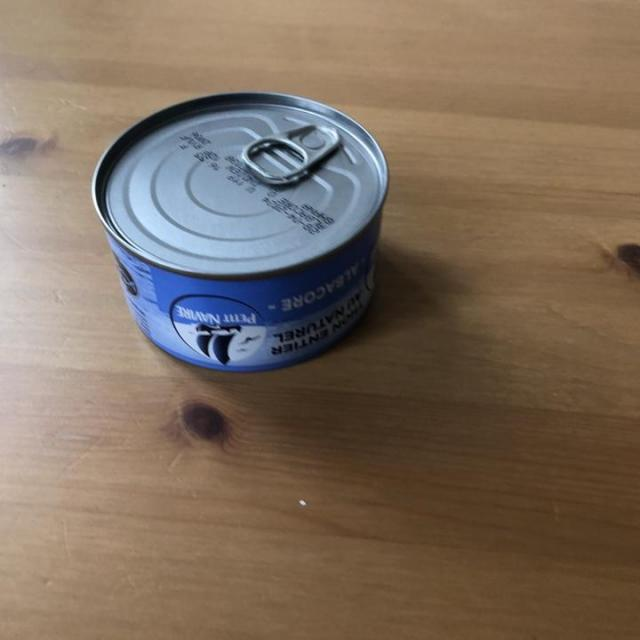metal-can: (94, 86, 394, 376)
